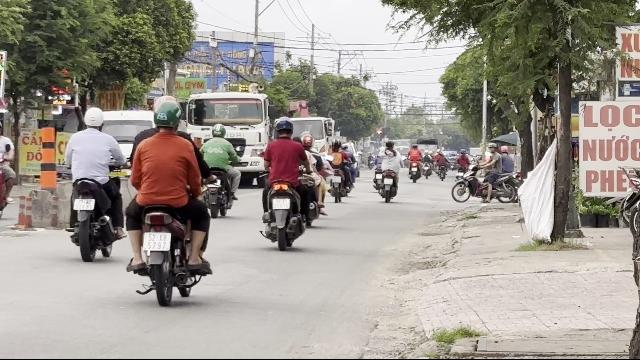helmet: (151, 96, 183, 132), (82, 106, 104, 130), (272, 116, 294, 138)
licenseplate: (144, 233, 170, 251), (74, 198, 95, 209), (272, 199, 290, 209)
motorcyclist: (122, 95, 215, 305), (62, 104, 126, 260), (256, 115, 324, 248)
